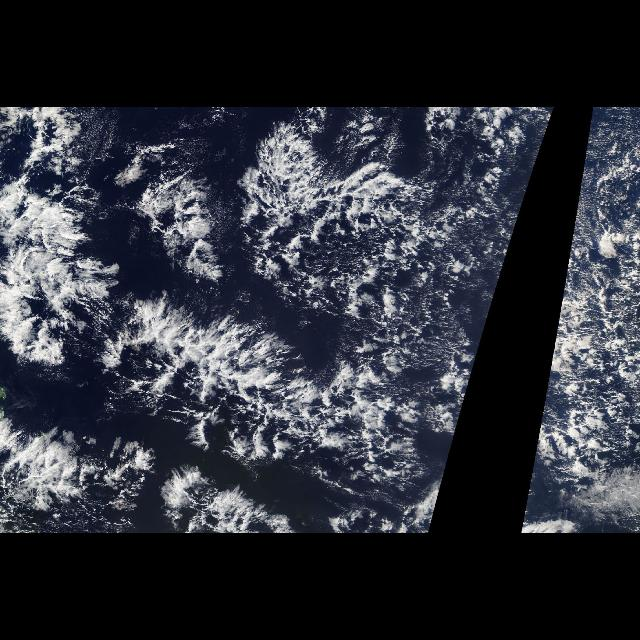Fish: (1, 107, 472, 501)
Gravel: (238, 143, 487, 317)
